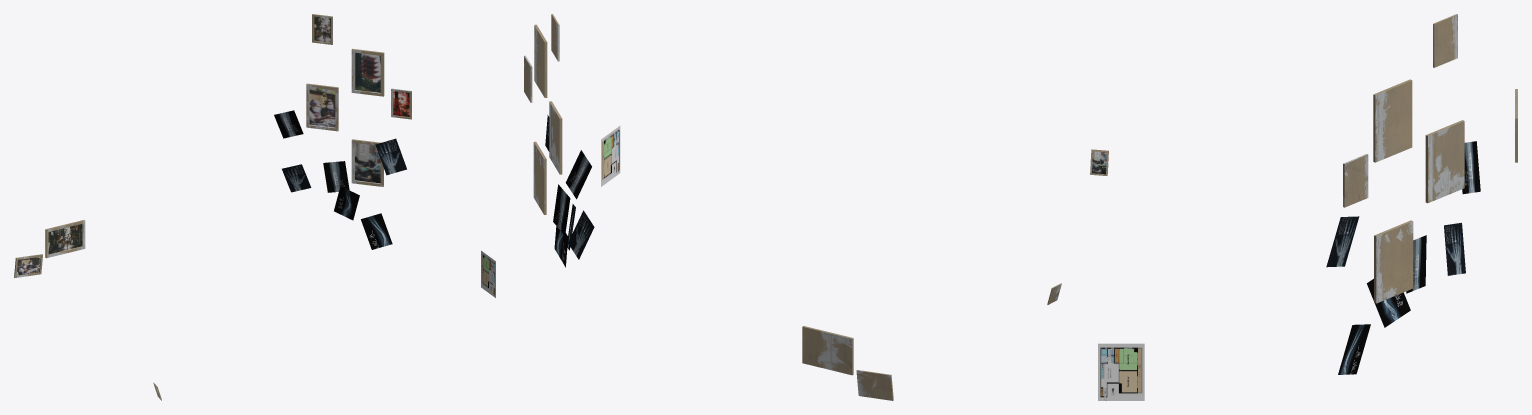
Rendered from scene 1-picture.fbx.
3 views of the same model, side by side, from view 1: azimuth 30°, elevation 25°; view 2: azimuth 150°, elevation 25°; view 3: azimuth 270°, elevation 25° (orthographic). The views are drawn at different scales.
Visible parts, largest first — view 1: MEDICAL REPORT.008; view 2: MEDICAL REPORT.008; view 3: MEDICAL REPORT.008.
Part boxes in pixels (<box>): MEDICAL REPORT.008: <box>14,14,495,400</box>; MEDICAL REPORT.008: <box>524,14,1061,400</box>; MEDICAL REPORT.008: <box>1090,14,1517,400</box>.
Bounding box in the file's own units: 1250 × 808 × 860.
